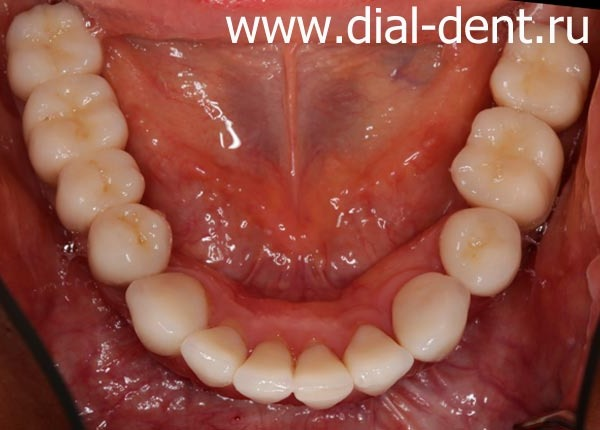LL1BC_healthy: (442, 208, 522, 291)
LL1M_healthy: (493, 44, 589, 120)
LL2BC_healthy: (454, 109, 566, 215)
LLCI_healthy: (296, 345, 352, 405)
LLC_healthy: (394, 274, 469, 359)
LLLI_healthy: (348, 327, 412, 392)
LR1BC_healthy: (88, 204, 168, 278)
LR1M_healthy: (24, 73, 126, 163)
LR2BC_healthy: (57, 151, 141, 221)
LR2M_healthy: (7, 5, 99, 84)
LRCI_healthy: (236, 341, 292, 400)
LRC_healthy: (127, 274, 206, 350)
LRLI_healthy: (180, 327, 244, 386)
